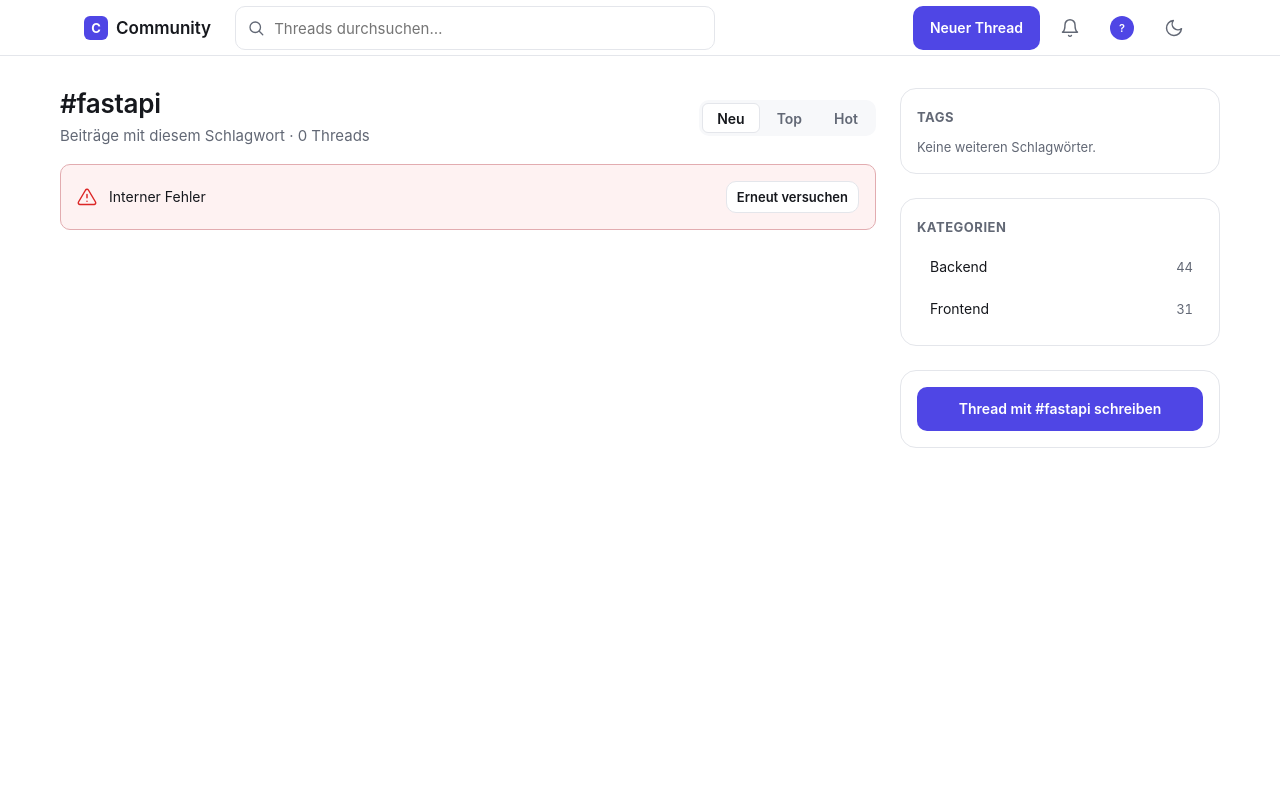
Test: forum tag page › shows a readable error with a working retry
Expected: the text "Interner Fehler" is shown, [109,185,206,209]
Step 1. Click the button "Erneut versuchen" → (792, 197), box [726,181,859,213]
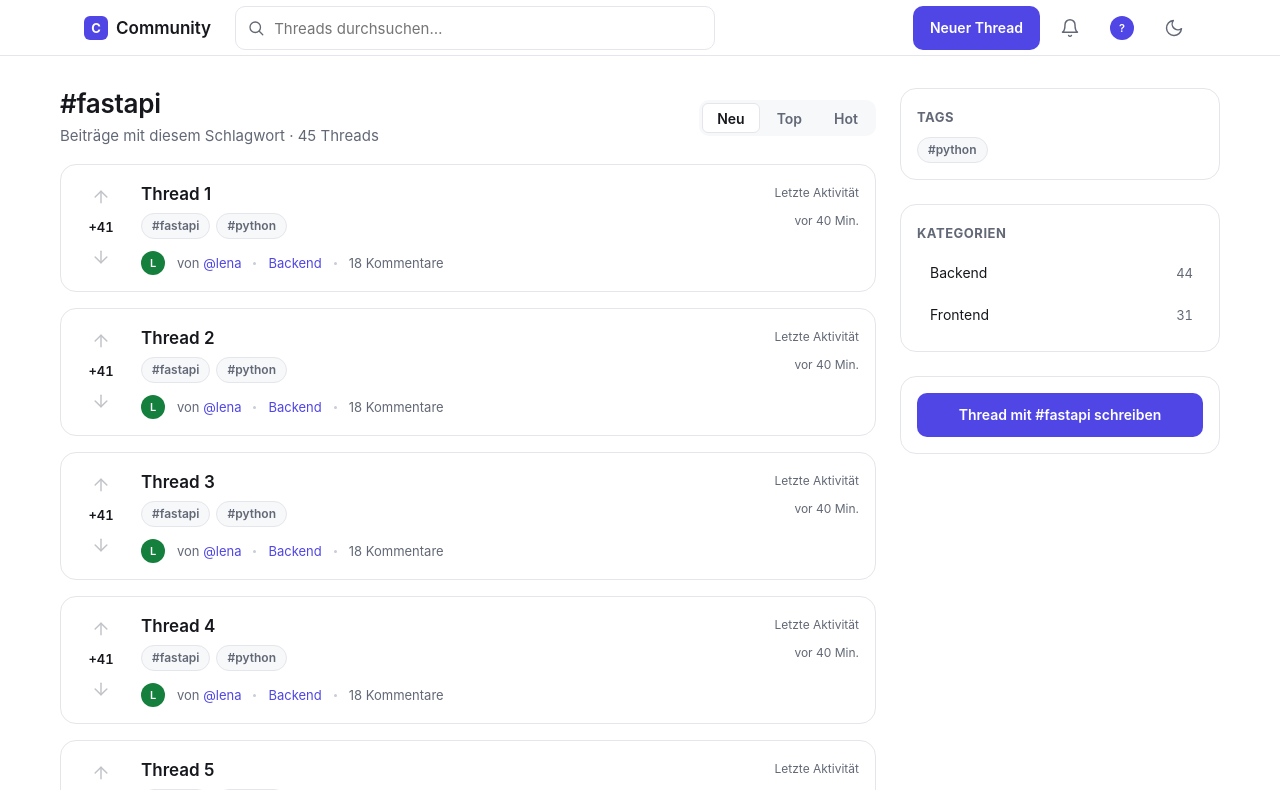
Expected: the link "Thread 1" is shown, [141,184,211,204]
